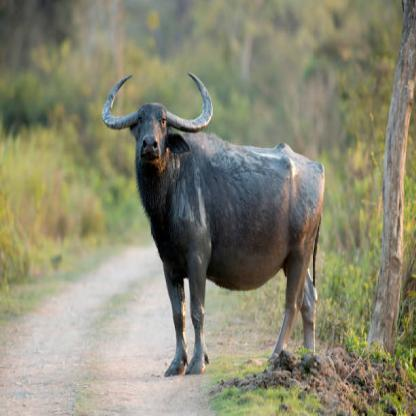buffalo: (106, 72, 330, 380)
